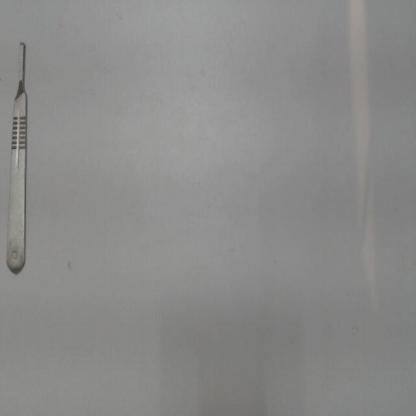No.4 BP Handle: (1, 34, 36, 282)
